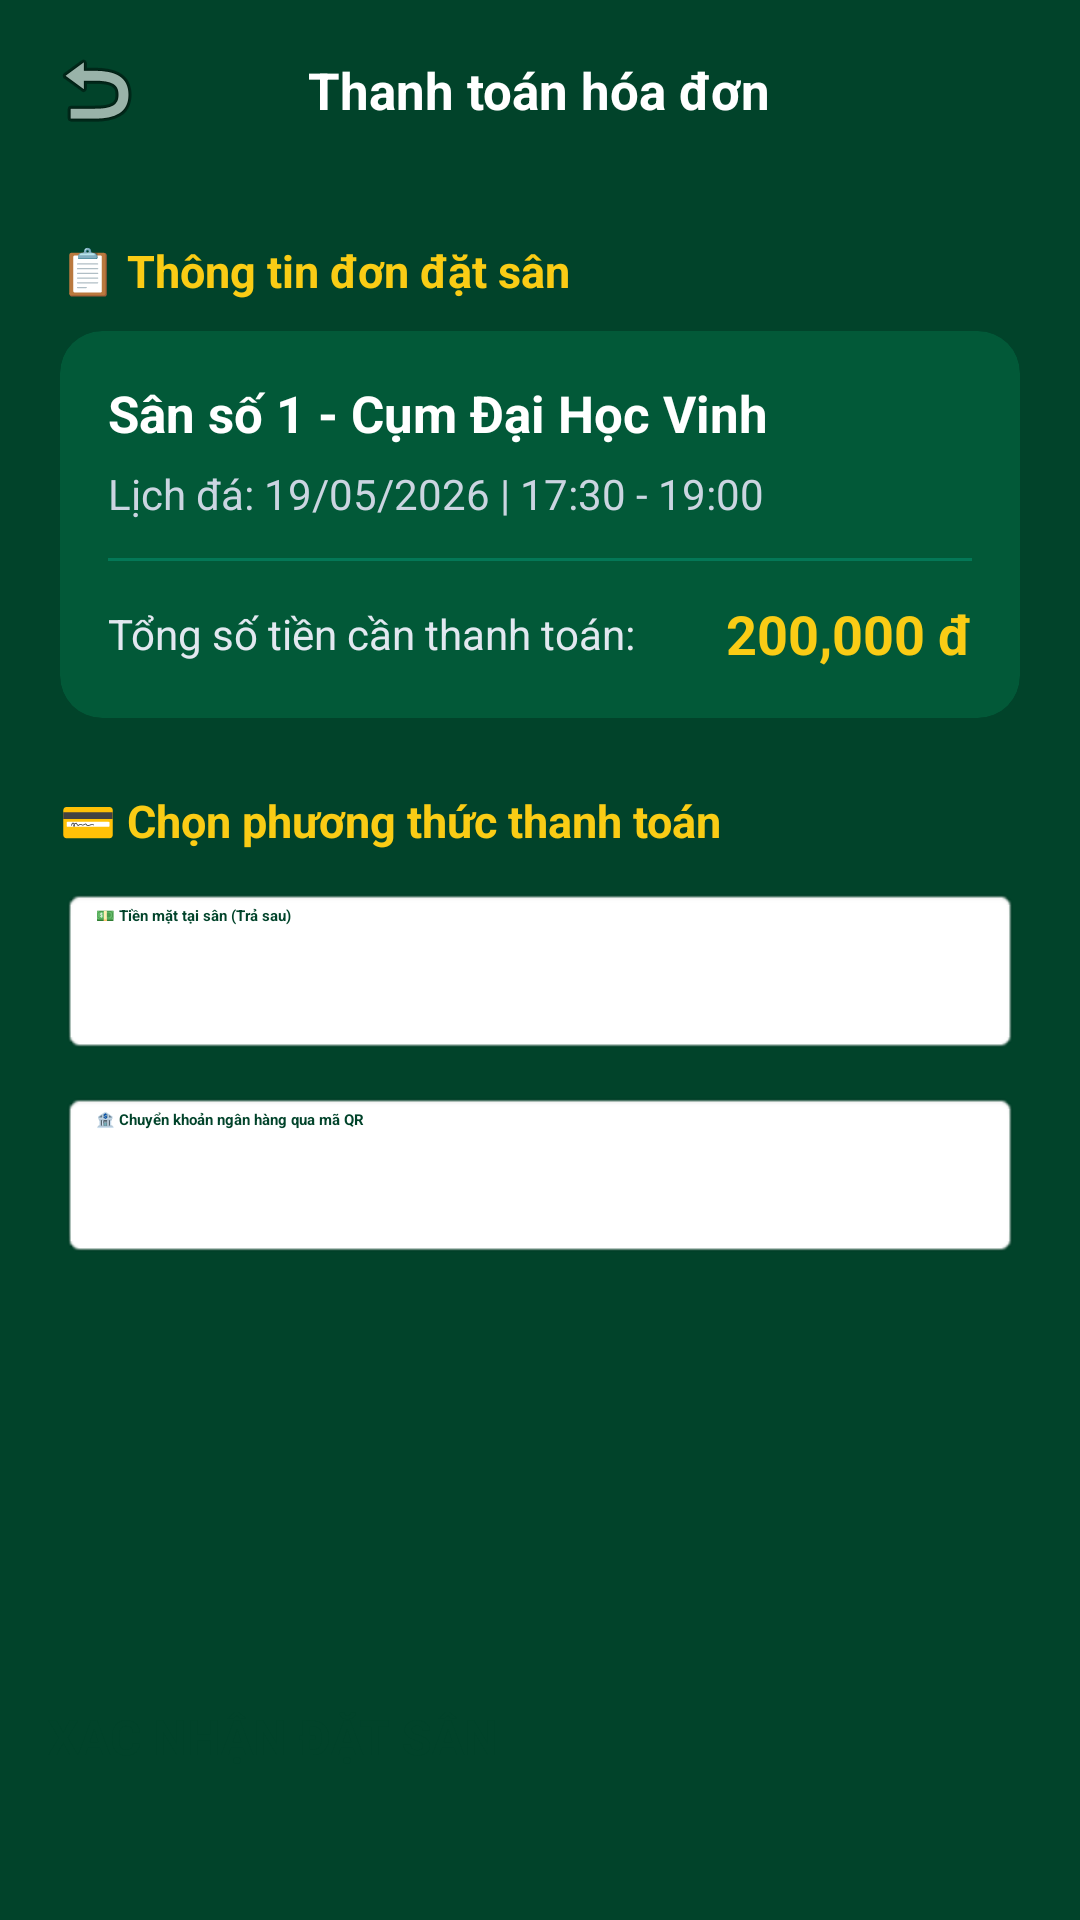

Named icons in this screenshot (1080*1920) and their bounding boxes, rect(x1, y1, x2, y2):
Back Button: rect(63, 60, 131, 121)
